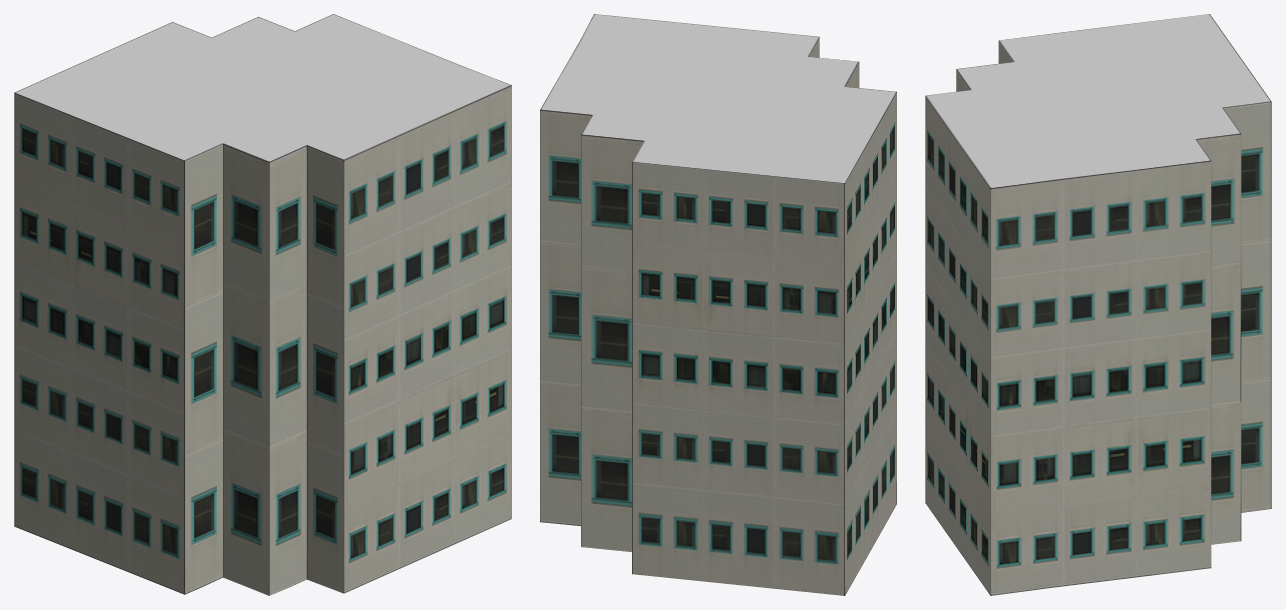
The model's file is ps2buildingtest.fbx.
The picture shows the model from 3 angles, left to right: view 1: azimuth 30°, elevation 25°; view 2: azimuth 150°, elevation 25°; view 3: azimuth 270°, elevation 25°; orthographic projection. The views are drawn at different scales.
Parts seen in each view (by area): view 1: Areas:building.001; view 2: Areas:building.001; view 3: Areas:building.001.
Part boxes in pixels (box(x1,y1,x2,y2)): Areas:building.001: box(14, 14, 511, 595); Areas:building.001: box(540, 14, 896, 595); Areas:building.001: box(925, 14, 1271, 595).
Bounding box in the file's own units: 715 × 779 × 600.
1 material, 1 textured.
